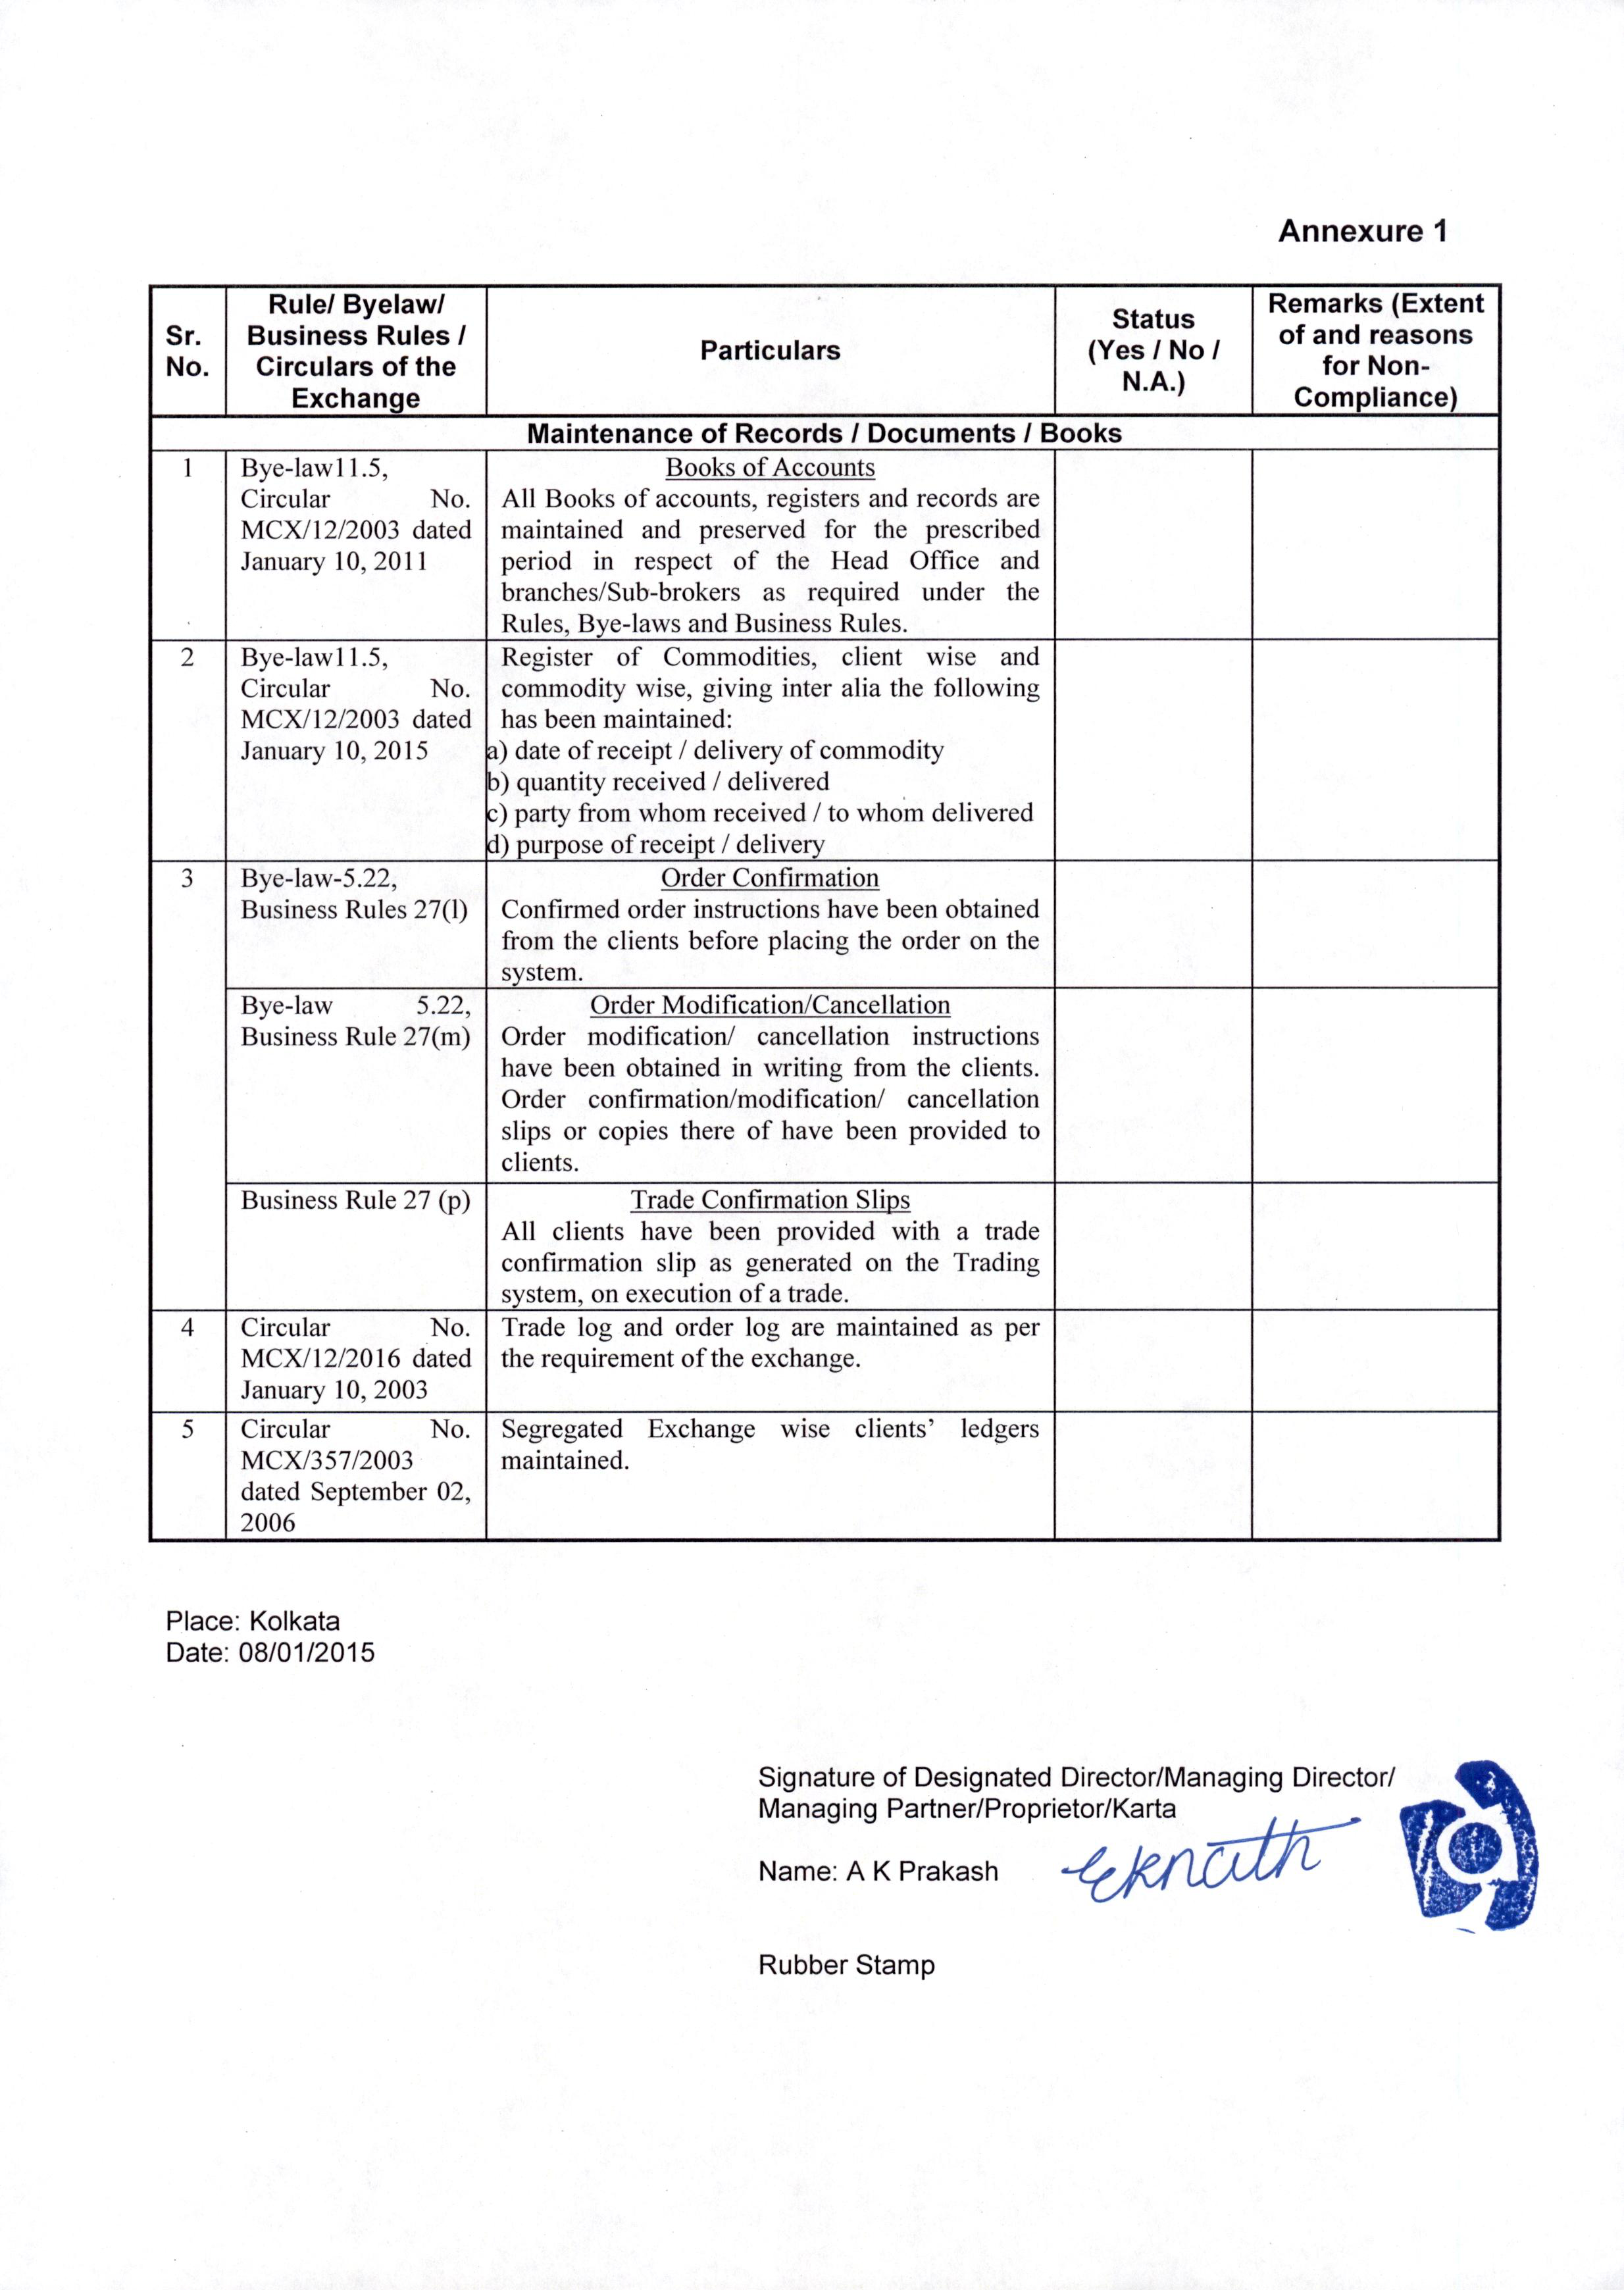Signature: (1051, 1814, 1374, 1910)
